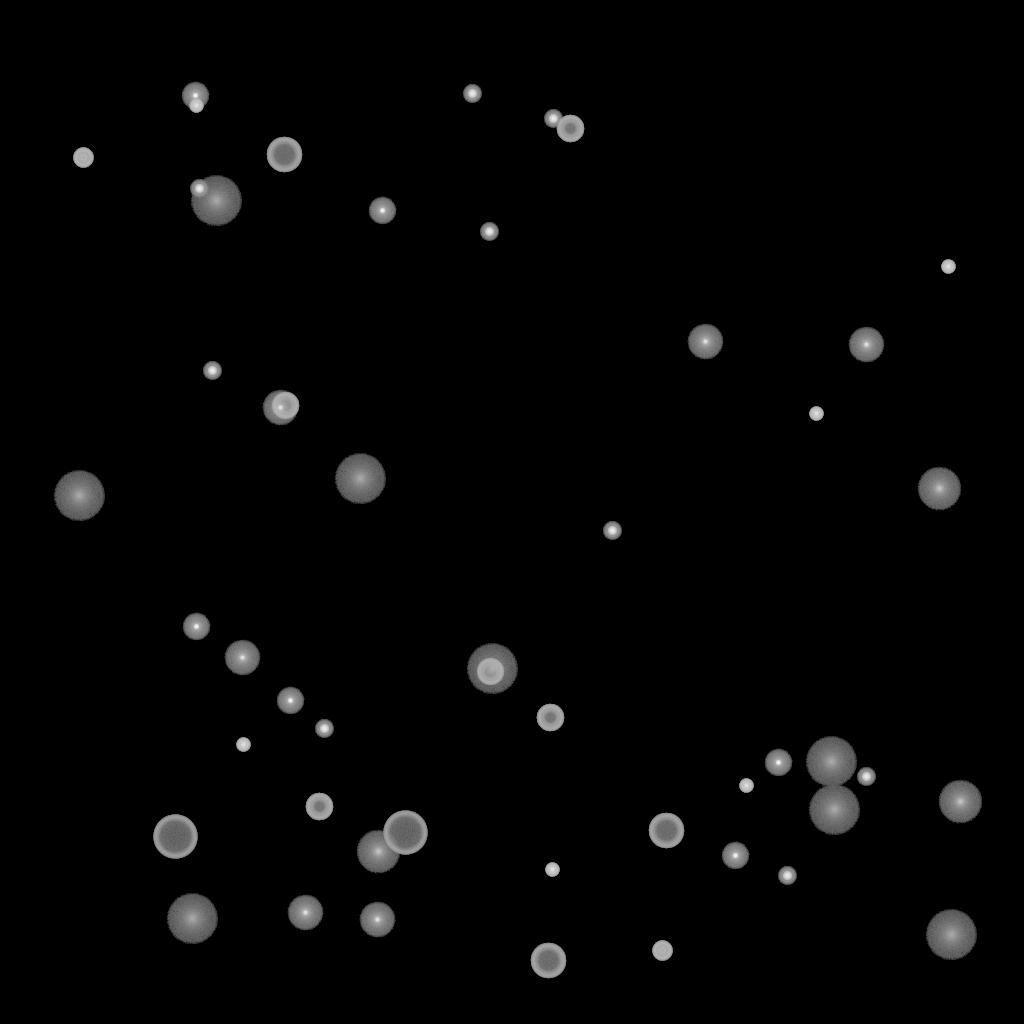depth:-10: (368, 197, 396, 225), (721, 842, 749, 870), (764, 749, 792, 777), (276, 687, 304, 715), (181, 82, 209, 110), (182, 613, 210, 641)
depth:-20: (544, 110, 562, 128), (463, 85, 481, 103), (857, 768, 875, 786), (315, 720, 333, 738), (190, 180, 208, 198), (480, 223, 498, 241), (778, 867, 796, 885), (203, 362, 221, 380), (603, 522, 621, 540)
depth:-30: (189, 99, 203, 113), (809, 407, 823, 421), (941, 260, 955, 274), (739, 779, 753, 793), (545, 863, 559, 877), (236, 738, 250, 752)
depth:-40: (652, 941, 672, 961), (73, 148, 93, 168)
depth:-50: (536, 704, 564, 732), (556, 115, 584, 143), (305, 793, 333, 821), (271, 392, 299, 420), (476, 658, 504, 686)
depth:-60: (266, 137, 302, 173), (530, 943, 566, 979), (648, 813, 684, 849)
depth:-70: (153, 815, 197, 859), (383, 811, 427, 855)
depth:0: (262, 390, 298, 426), (359, 902, 395, 938), (687, 324, 723, 360), (224, 640, 260, 676), (287, 895, 323, 931), (848, 327, 884, 363)
depth:10: (917, 467, 961, 511), (938, 780, 982, 824), (356, 830, 400, 874)
depth:20: (166, 894, 218, 944), (53, 471, 105, 521), (334, 454, 386, 504), (808, 785, 860, 835), (466, 644, 518, 694), (925, 910, 977, 960), (805, 737, 857, 787), (190, 176, 242, 226)
